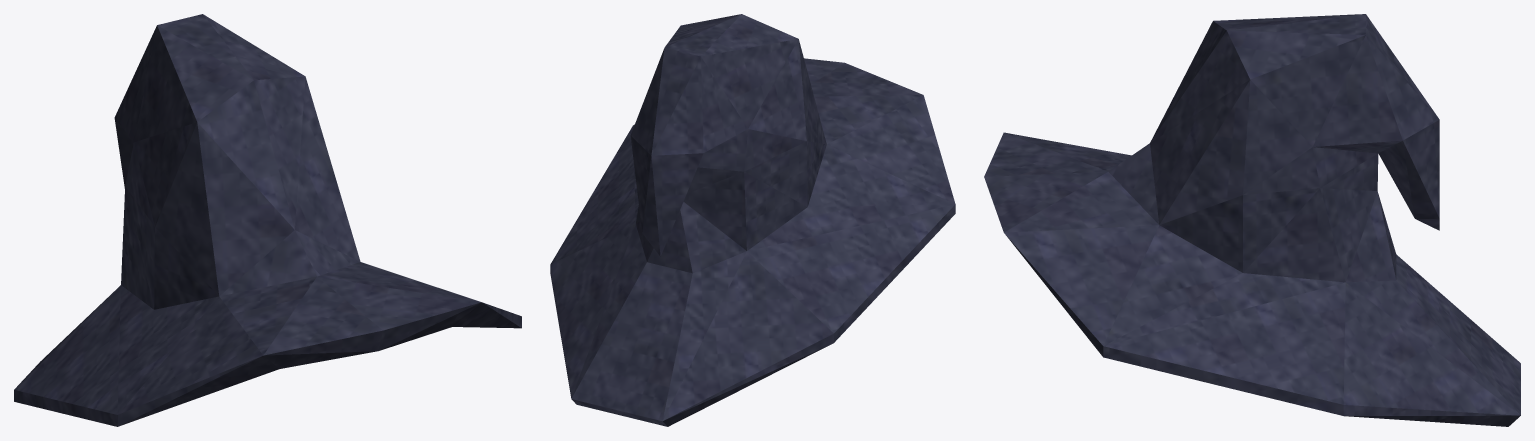
Rendered from hat.dae.
The picture shows the model from 3 angles, left to right: view 1: azimuth 30°, elevation 25°; view 2: azimuth 150°, elevation 25°; view 3: azimuth 270°, elevation 25°; orthographic projection. The views are drawn at different scales.
Parts seen in each view (by area): view 1: SketchUp; view 2: SketchUp; view 3: SketchUp.
Part boxes in pixels (x1,y1,x2,y2): SketchUp: [14, 14, 521, 426]; SketchUp: [550, 14, 955, 426]; SketchUp: [984, 14, 1520, 426].
Bounding box in the file's own units: 13.92 × 17.03 × 13.17.
